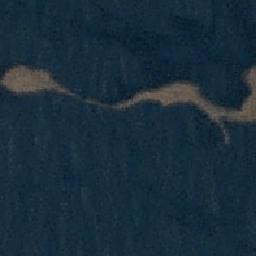debris: (1, 65, 58, 93), (157, 81, 199, 104), (110, 92, 156, 109), (212, 108, 251, 123), (242, 67, 256, 98), (241, 98, 256, 125), (198, 98, 213, 112), (60, 86, 81, 95), (87, 98, 109, 104)
